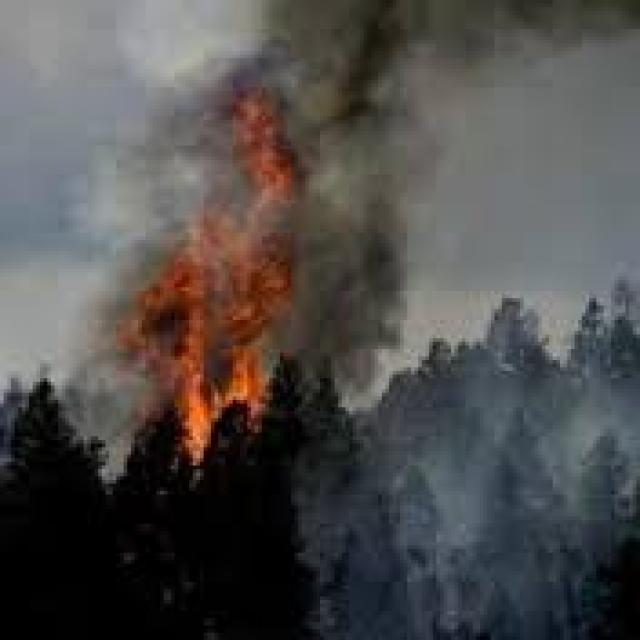Fire: (142, 93, 286, 481)
Smoke: (258, 9, 640, 369), (298, 374, 640, 640)
